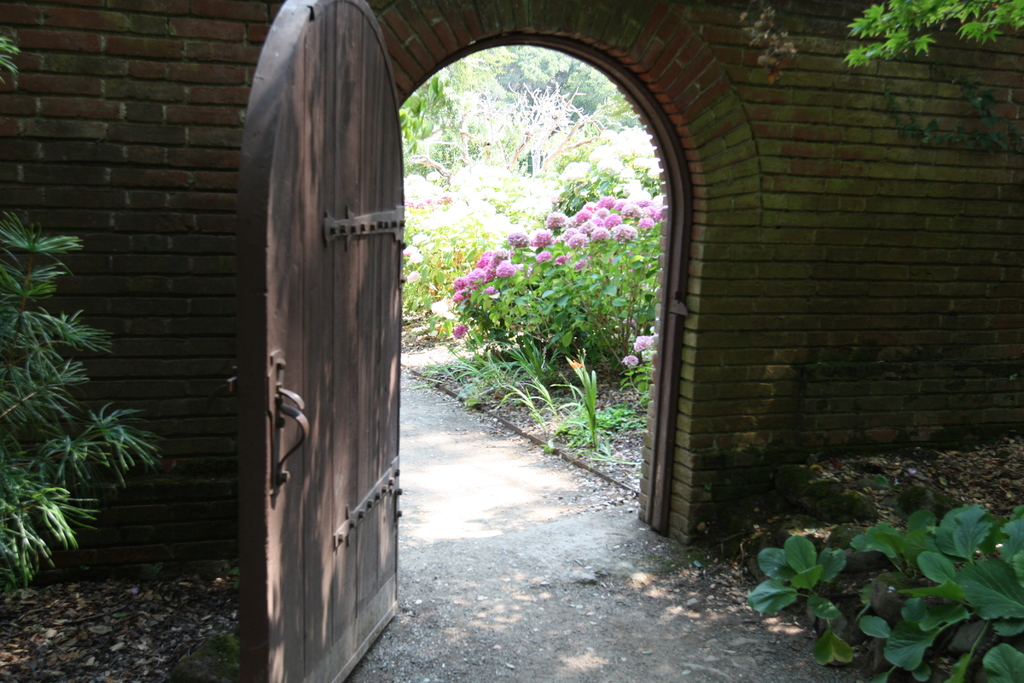door: (270, 42, 398, 637)
handle: (270, 362, 315, 501)
